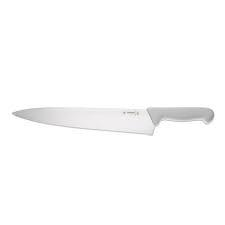Knife: (11, 105, 214, 136)
